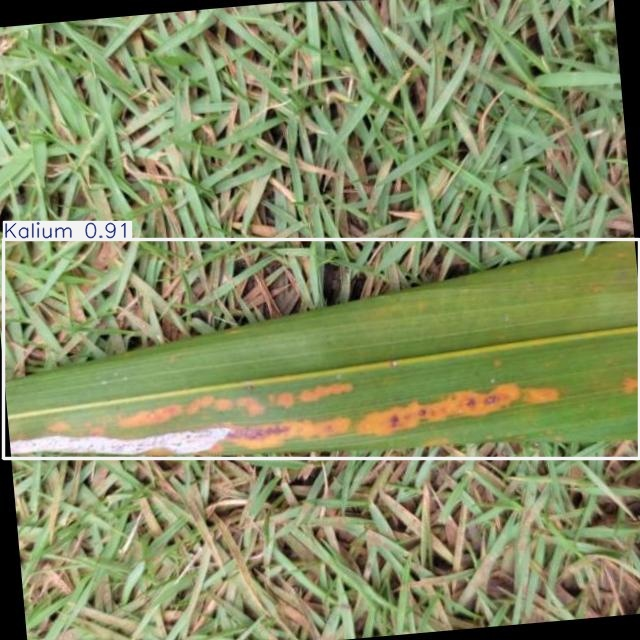Kalium: (4, 240, 640, 458)
